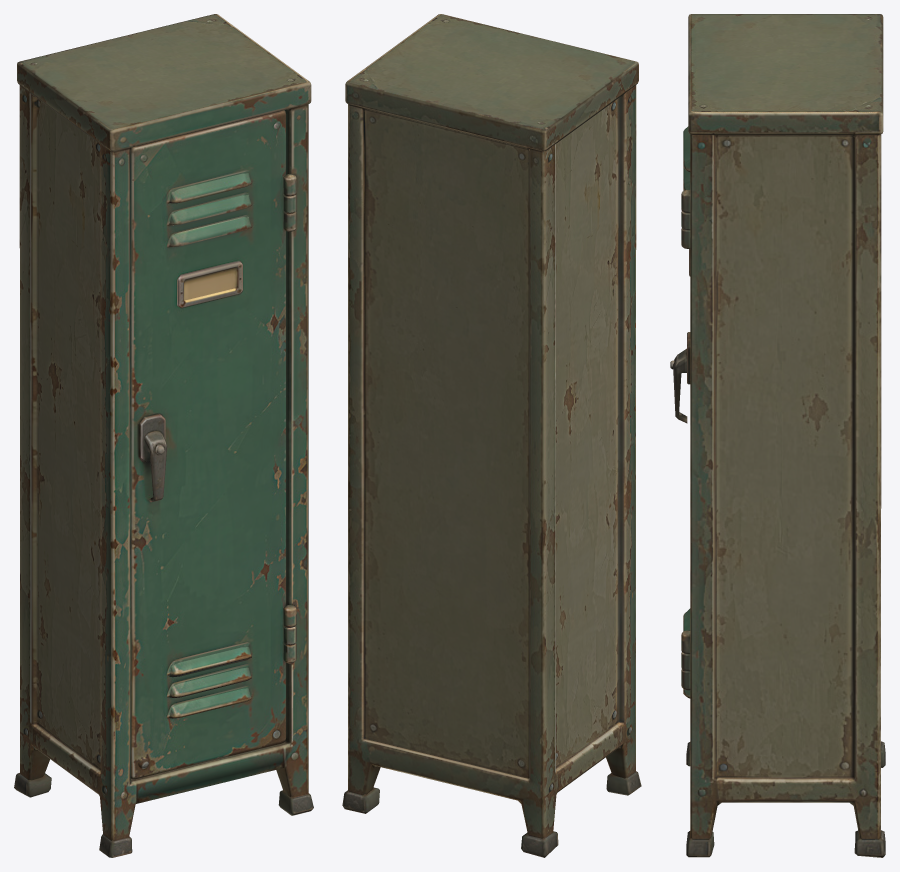
The model's file is P34_staff_locker_Runtime_1k.glb.
3 views of the same model, side by side, from view 1: azimuth 30°, elevation 25°; view 2: azimuth 150°, elevation 25°; view 3: azimuth 270°, elevation 25° (orthographic). The views are drawn at different scales.
Parts seen in each view (by area): view 1: tripo_node_8cb30762; view 2: tripo_node_8cb30762; view 3: tripo_node_8cb30762.
Boxes of the visible parts, x1,y1,x2,y2 form: tripo_node_8cb30762: (14, 14, 313, 857); tripo_node_8cb30762: (342, 14, 641, 857); tripo_node_8cb30762: (670, 14, 885, 857).
Bounding box in the file's own units: 0.545 × 1.85 × 0.4853.
Materials: 1 (1 with a texture image).
